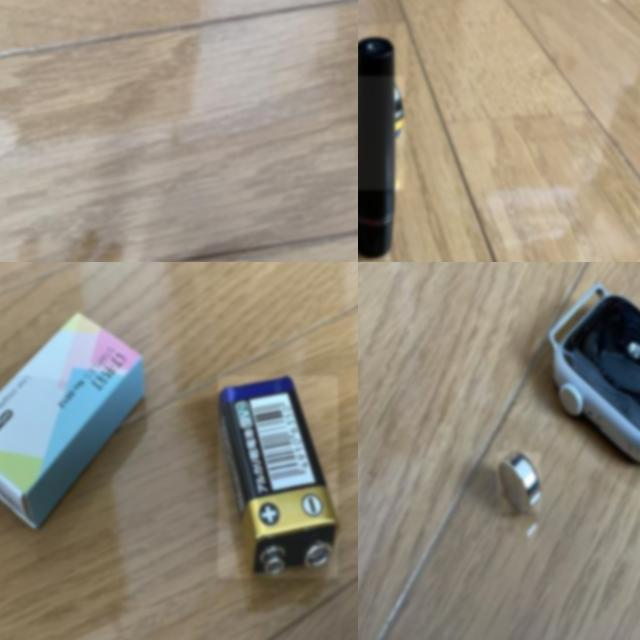9V: (218, 376, 339, 578)
